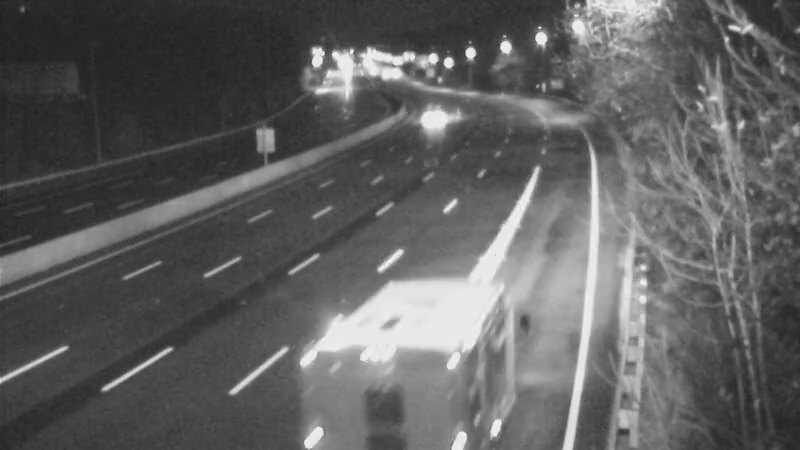vehicle: (333, 325, 443, 435), (406, 93, 456, 143)
